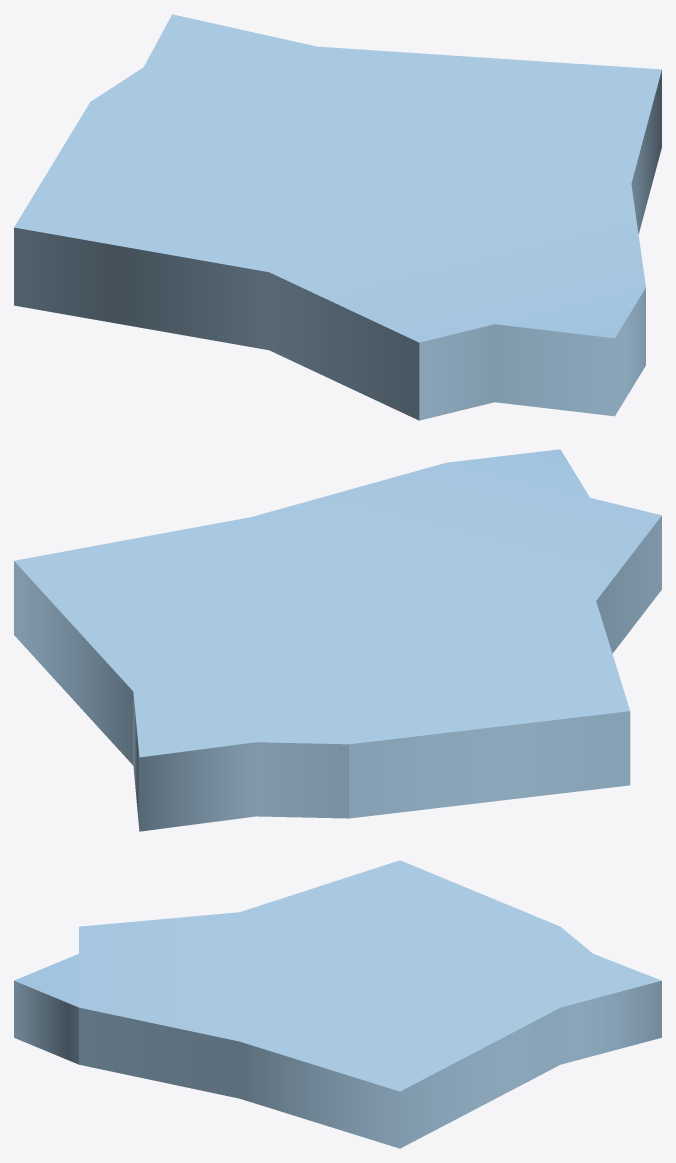
Rendered from Rock 37.FBX.
The picture shows the model from 3 angles, top to bottom: view 1: azimuth 30°, elevation 25°; view 2: azimuth 150°, elevation 25°; view 3: azimuth 270°, elevation 25°; orthographic projection. The views are drawn at different scales.
Visible parts, largest first — view 1: Box001; view 2: Box001; view 3: Box001.
Part boxes in pixels (<box>): Box001: <box>14,14,661,420</box>; Box001: <box>14,449,661,831</box>; Box001: <box>14,860,661,1148</box>.
Size of the model in its own units: 42.26 by 4.86 by 50.01.
